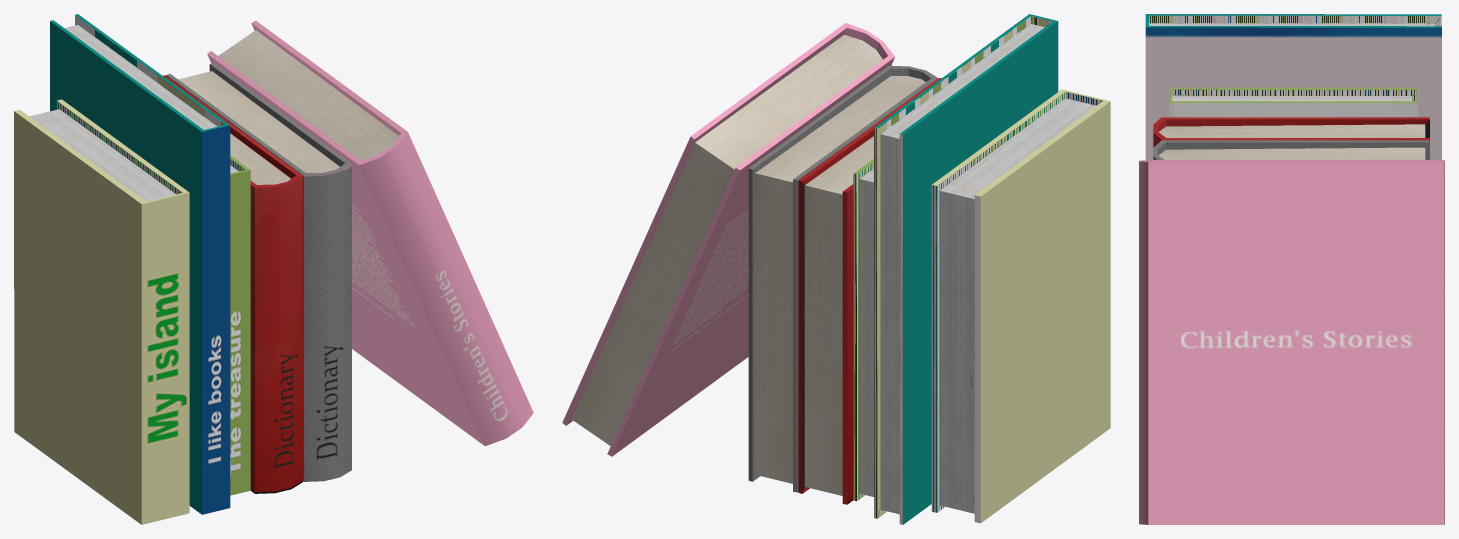
Rendered from Books 2.FBX.
The picture shows the model from 3 angles, left to right: view 1: azimuth 30°, elevation 25°; view 2: azimuth 150°, elevation 25°; view 3: azimuth 270°, elevation 25°; orthographic projection. The views are drawn at different scales.
Parts seen in each view (by area): view 1: Books 2; view 2: Books 2; view 3: Books 2.
Boxes of the visible parts, x1,y1,x2,y2 form: Books 2: [14, 14, 533, 524]; Books 2: [562, 14, 1110, 524]; Books 2: [1139, 14, 1444, 524].
Size of the model in its own units: 26.69 by 25.22 by 18.68.
2 materials, 2 textured.
